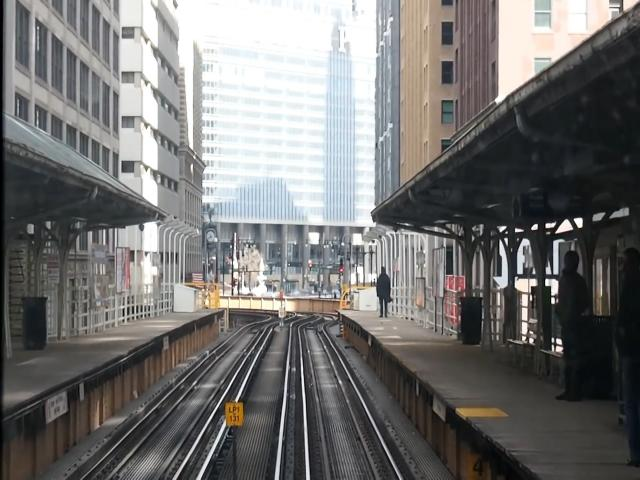signal light: (340, 258, 346, 278)
